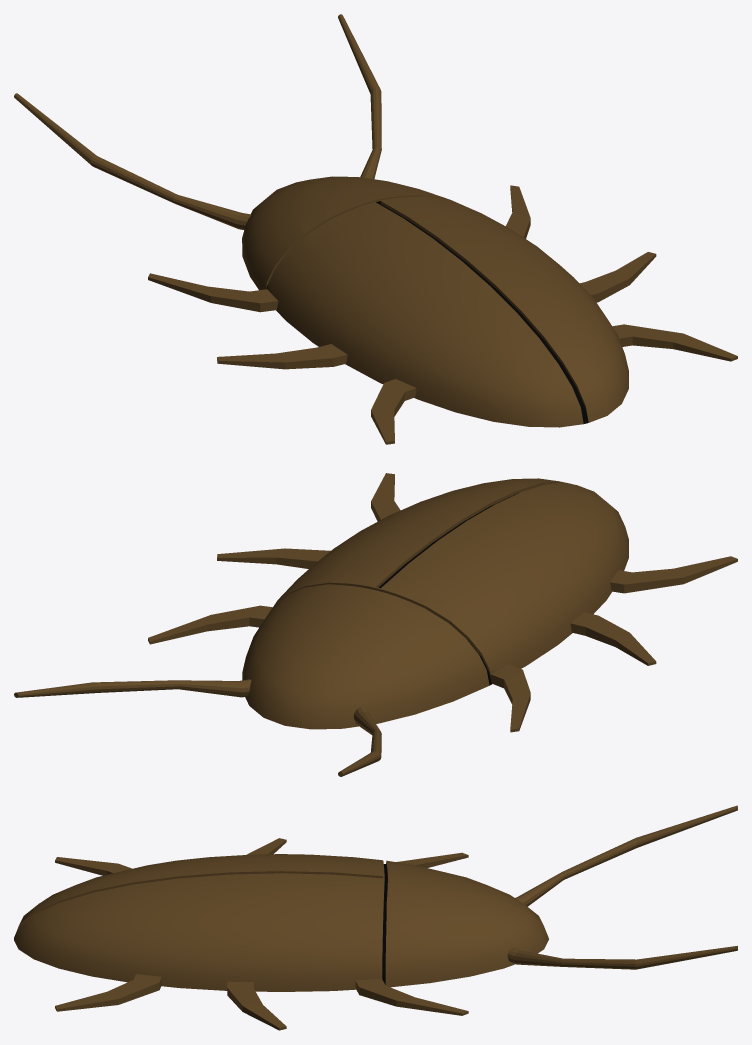
File: kakerlake.fbx
The picture shows the model from 3 angles, top to bottom: view 1: azimuth 30°, elevation 25°; view 2: azimuth 150°, elevation 25°; view 3: azimuth 270°, elevation 25°; orthographic projection. The views are drawn at different scales.
Visible parts, largest first — view 1: Sphere.001; view 2: Sphere.001; view 3: Sphere.001.
Boxes of the visible parts, x1,y1,x2,y2 form: Sphere.001: (14, 14, 737, 444); Sphere.001: (14, 473, 737, 776); Sphere.001: (14, 805, 737, 1030).
Bounding box in the file's own units: 27.37 × 4.49 × 44.07.
